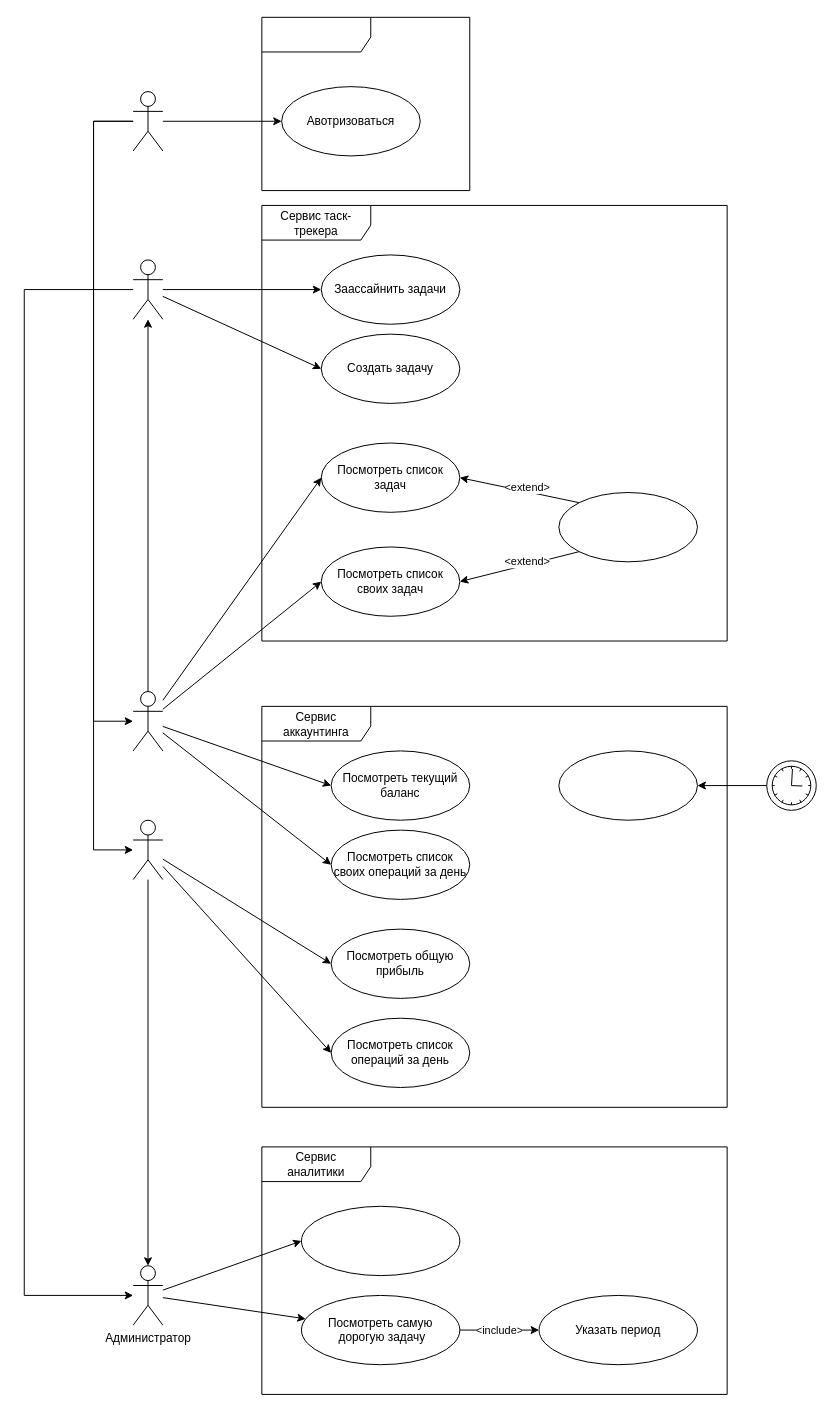
Image size: 834x1412. Some labels were removed from this diagram. The shapes that lost their labels are listed below. From the top down, each one's centre as x and y in pixels, then its label:
At point 147,121: "Пользователь".
At point 365,103: "Сервис авторизации".
At point 147,289: "Менеджер".
At point 627,527: "Выполнить задачу".
At point 147,721: "Рядовой сотрудник".
At point 627,785: "Выплата баланса".
At point 147,849: "Бухгалтер".
At point 380,1240: "Посмотреть количество сотрудников в минусе".
